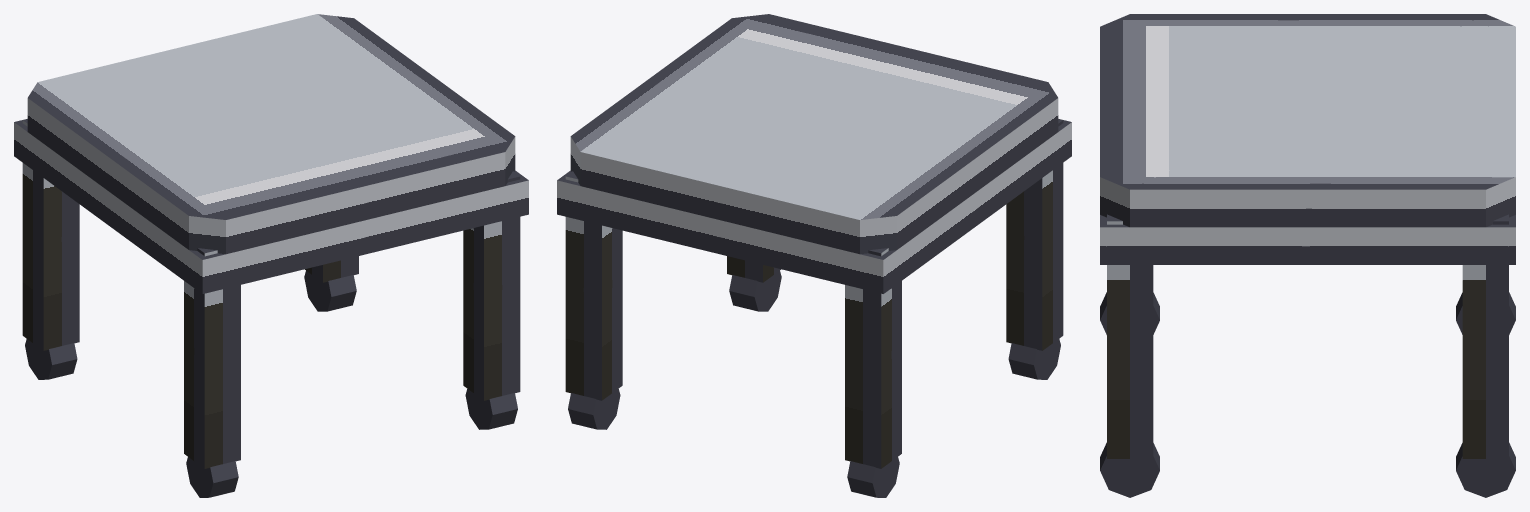
Rendered from rolling_table_single_4legs.glb.
The picture shows the model from 3 angles, left to right: view 1: azimuth 30°, elevation 25°; view 2: azimuth 150°, elevation 25°; view 3: azimuth 270°, elevation 25°; orthographic projection. The views are drawn at different scales.
Visible parts, largest first — view 1: rolling_table_single_4legs; view 2: rolling_table_single_4legs; view 3: rolling_table_single_4legs.
Boxes of the visible parts, x1,y1,x2,y2 form: rolling_table_single_4legs: [14, 14, 528, 497]; rolling_table_single_4legs: [557, 14, 1071, 497]; rolling_table_single_4legs: [1100, 14, 1515, 497].
Size of the model in its own units: 0.9 by 0.75 by 0.9.
1 material, 1 textured.
